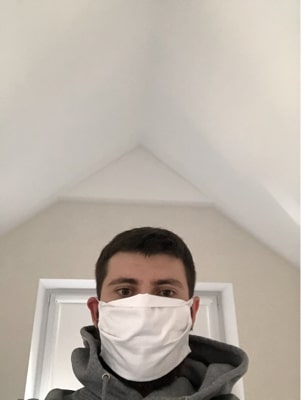Mask: (95, 295, 193, 380)
